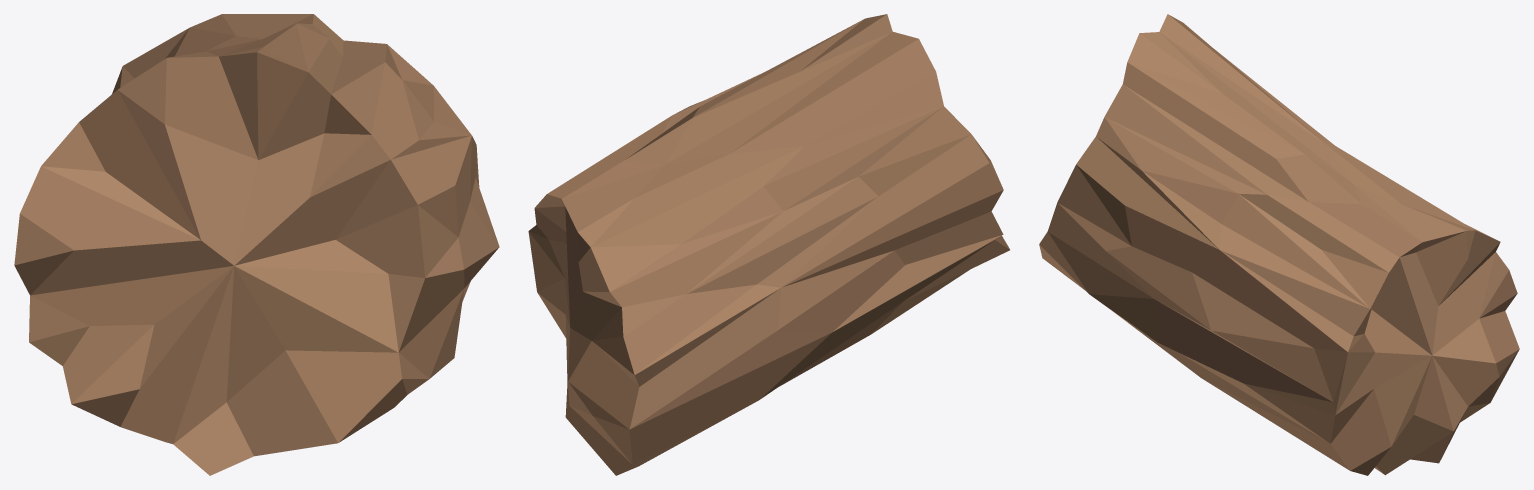
Rendered from Boulder_04_Tall.fbx.
3 views of the same model, side by side, from view 1: azimuth 30°, elevation 25°; view 2: azimuth 150°, elevation 25°; view 3: azimuth 270°, elevation 25° (orthographic). The views are drawn at different scales.
Parts seen in each view (by area): view 1: Boulder_04_Tall; view 2: Boulder_04_Tall; view 3: Boulder_04_Tall.
Boxes of the visible parts, <box> form: Boulder_04_Tall: <box>14,14,499,475</box>; Boulder_04_Tall: <box>528,14,1009,475</box>; Boulder_04_Tall: <box>1039,14,1519,475</box>.
Size of the model in its own units: 2.89 by 2.67 by 3.12.
